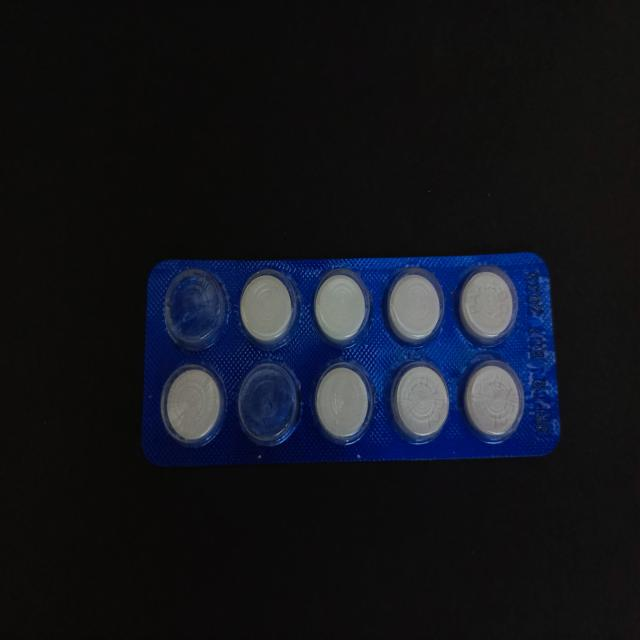defect: (160, 266, 232, 352), (236, 361, 306, 448)
